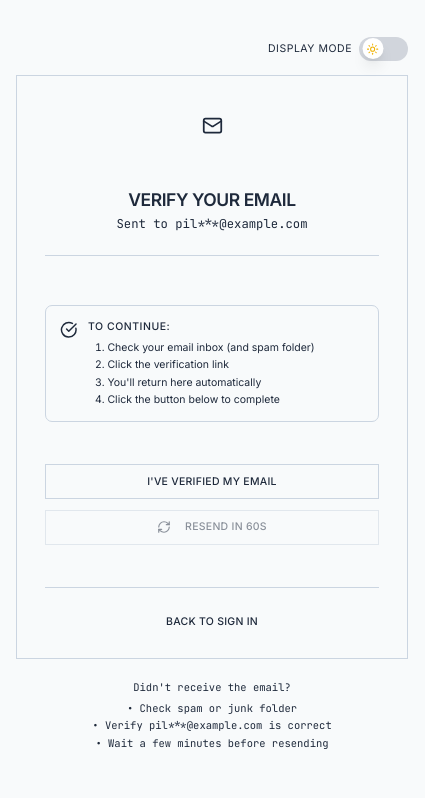
Test: EmailVerification › shows verified indicator after verify action
Click the button "I've Verified My Email". click: (212, 482)
box: [45,464,379,499]
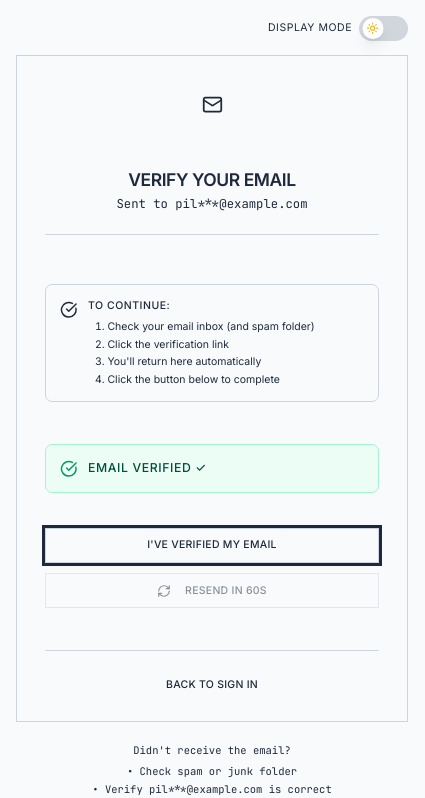
Now the text "Email Verified ✓" is shown, box [88,458,207,476]
